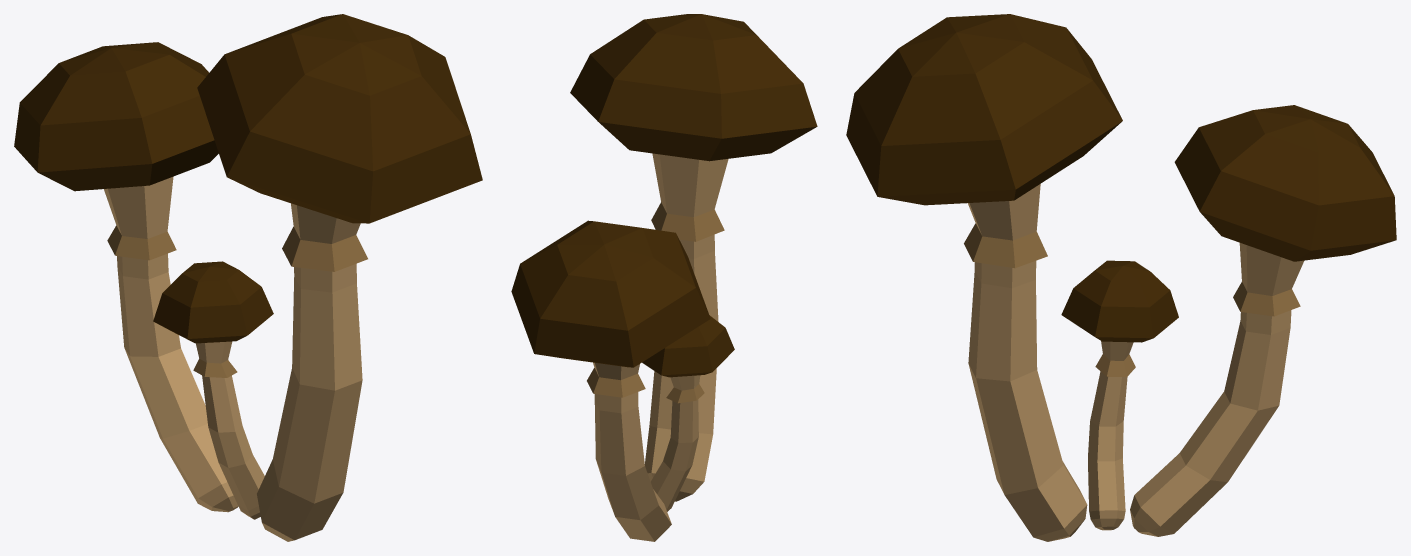
Rendered from Mushroom(2).fbx.
3 renders of one model, left to right at view 1: azimuth 30°, elevation 25°; view 2: azimuth 150°, elevation 25°; view 3: azimuth 270°, elevation 25°, orthographic. The views are drawn at different scales.
Parts seen in each view (by area): view 1: Mushroom(2); view 2: Mushroom(2); view 3: Mushroom(2).
Boxes of the visible parts, bbox=[...] form: Mushroom(2): bbox=[14, 14, 482, 541]; Mushroom(2): bbox=[511, 14, 817, 541]; Mushroom(2): bbox=[846, 14, 1396, 541].
Size of the model in its own units: 0.2257 by 0.394 by 0.3794.
